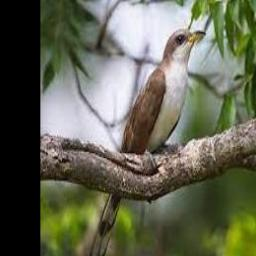Cuckoo: (84, 28, 207, 256)
